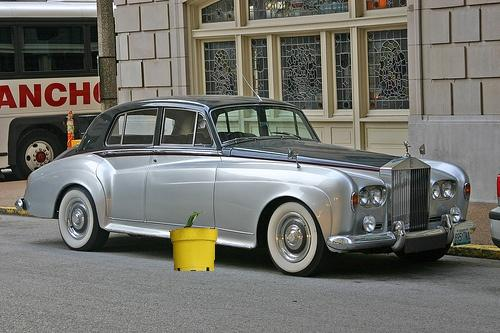tampered: (170, 213, 218, 271)
